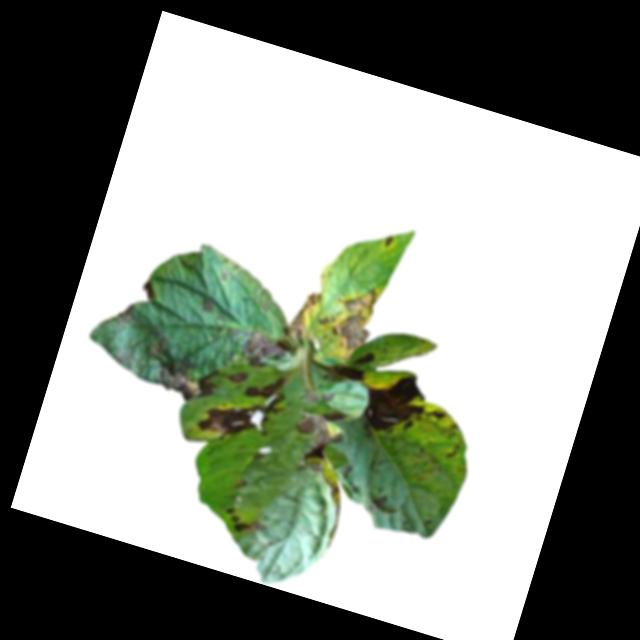Early_blight: (193, 359, 297, 457), (135, 333, 226, 409), (310, 275, 381, 365), (360, 366, 433, 444), (285, 399, 352, 471), (236, 326, 293, 378), (282, 284, 321, 342), (220, 502, 267, 541), (332, 344, 374, 387), (112, 299, 141, 336), (223, 366, 248, 387), (137, 278, 157, 303), (382, 235, 397, 251)
